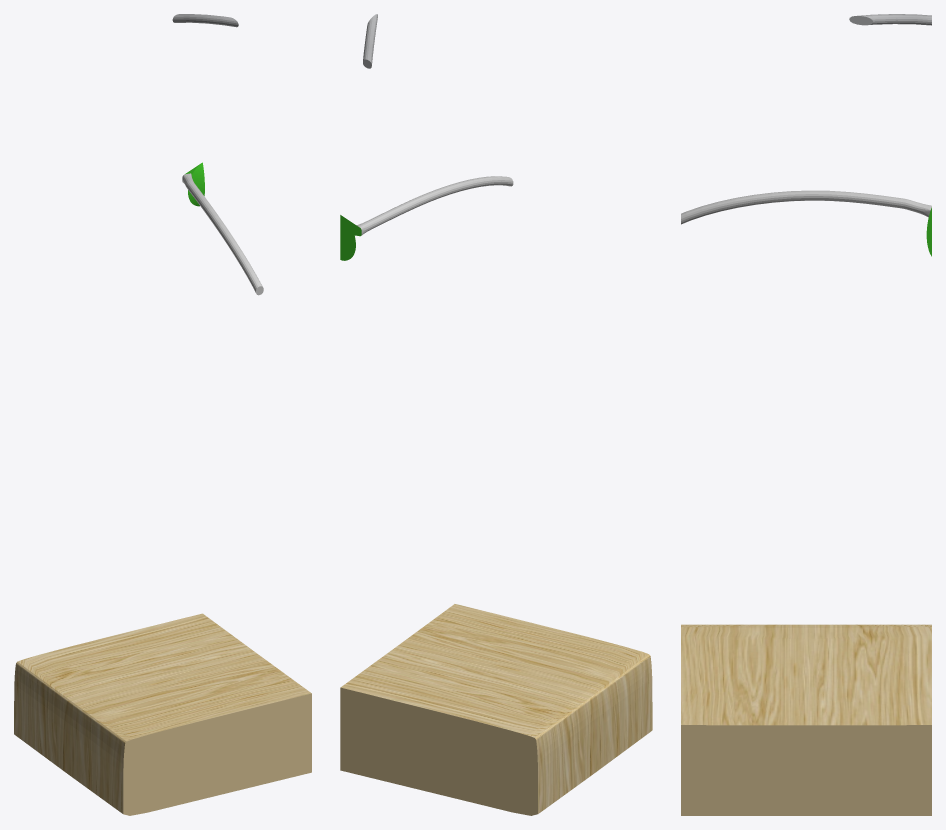
File: 3_Motorikschleife subdiv.fbx
3 renders of one model, left to right at view 1: azimuth 30°, elevation 25°; view 2: azimuth 150°, elevation 25°; view 3: azimuth 270°, elevation 25°, orthographic. The views are drawn at different scales.
Visible parts, largest first — view 1: Cube.005; view 2: Cube.005; view 3: Cube.005.
Part boxes in pixels (x1,y1,x2,y2): Cube.005: (14,14,311,815); Cube.005: (340,14,652,815); Cube.005: (681,14,931,815).
Size of the model in its own units: 499 by 1760 by 500.
